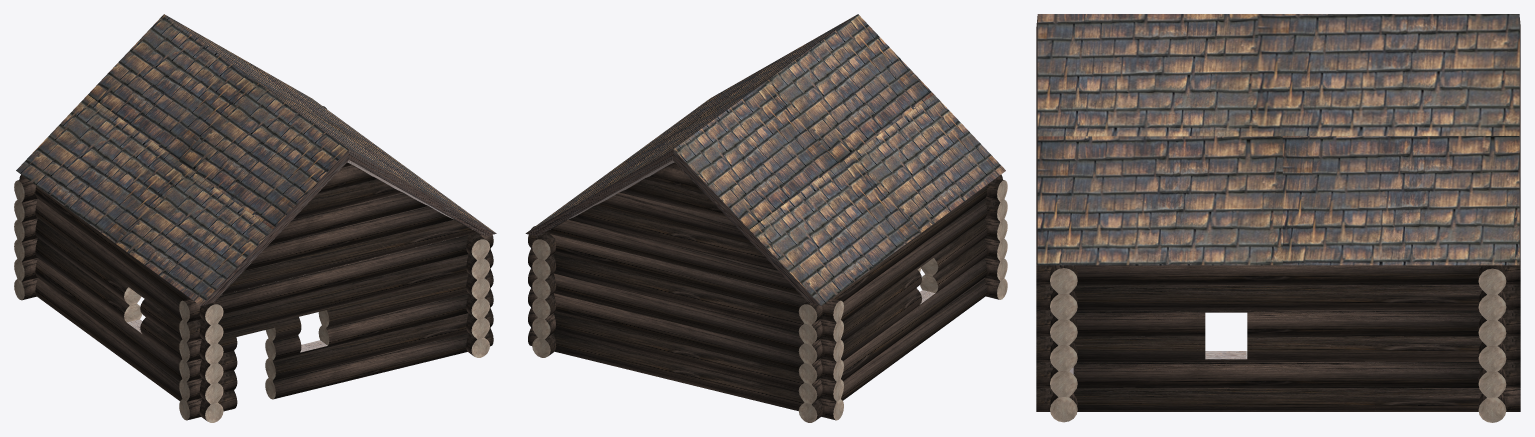
File: Cabin.fbx
The picture shows the model from 3 angles, left to right: view 1: azimuth 30°, elevation 25°; view 2: azimuth 150°, elevation 25°; view 3: azimuth 270°, elevation 25°; orthographic projection. The views are drawn at different scales.
Parts seen in each view (by area): view 1: Log_Cabin; view 2: Log_Cabin; view 3: Log_Cabin.
Part boxes in pixels (x1,y1,x2,y2): Log_Cabin: (14,14,496,422); Log_Cabin: (525,14,1007,422); Log_Cabin: (1036,14,1520,422).
Size of the model in its own units: 28.36 by 21.31 by 29.89.
